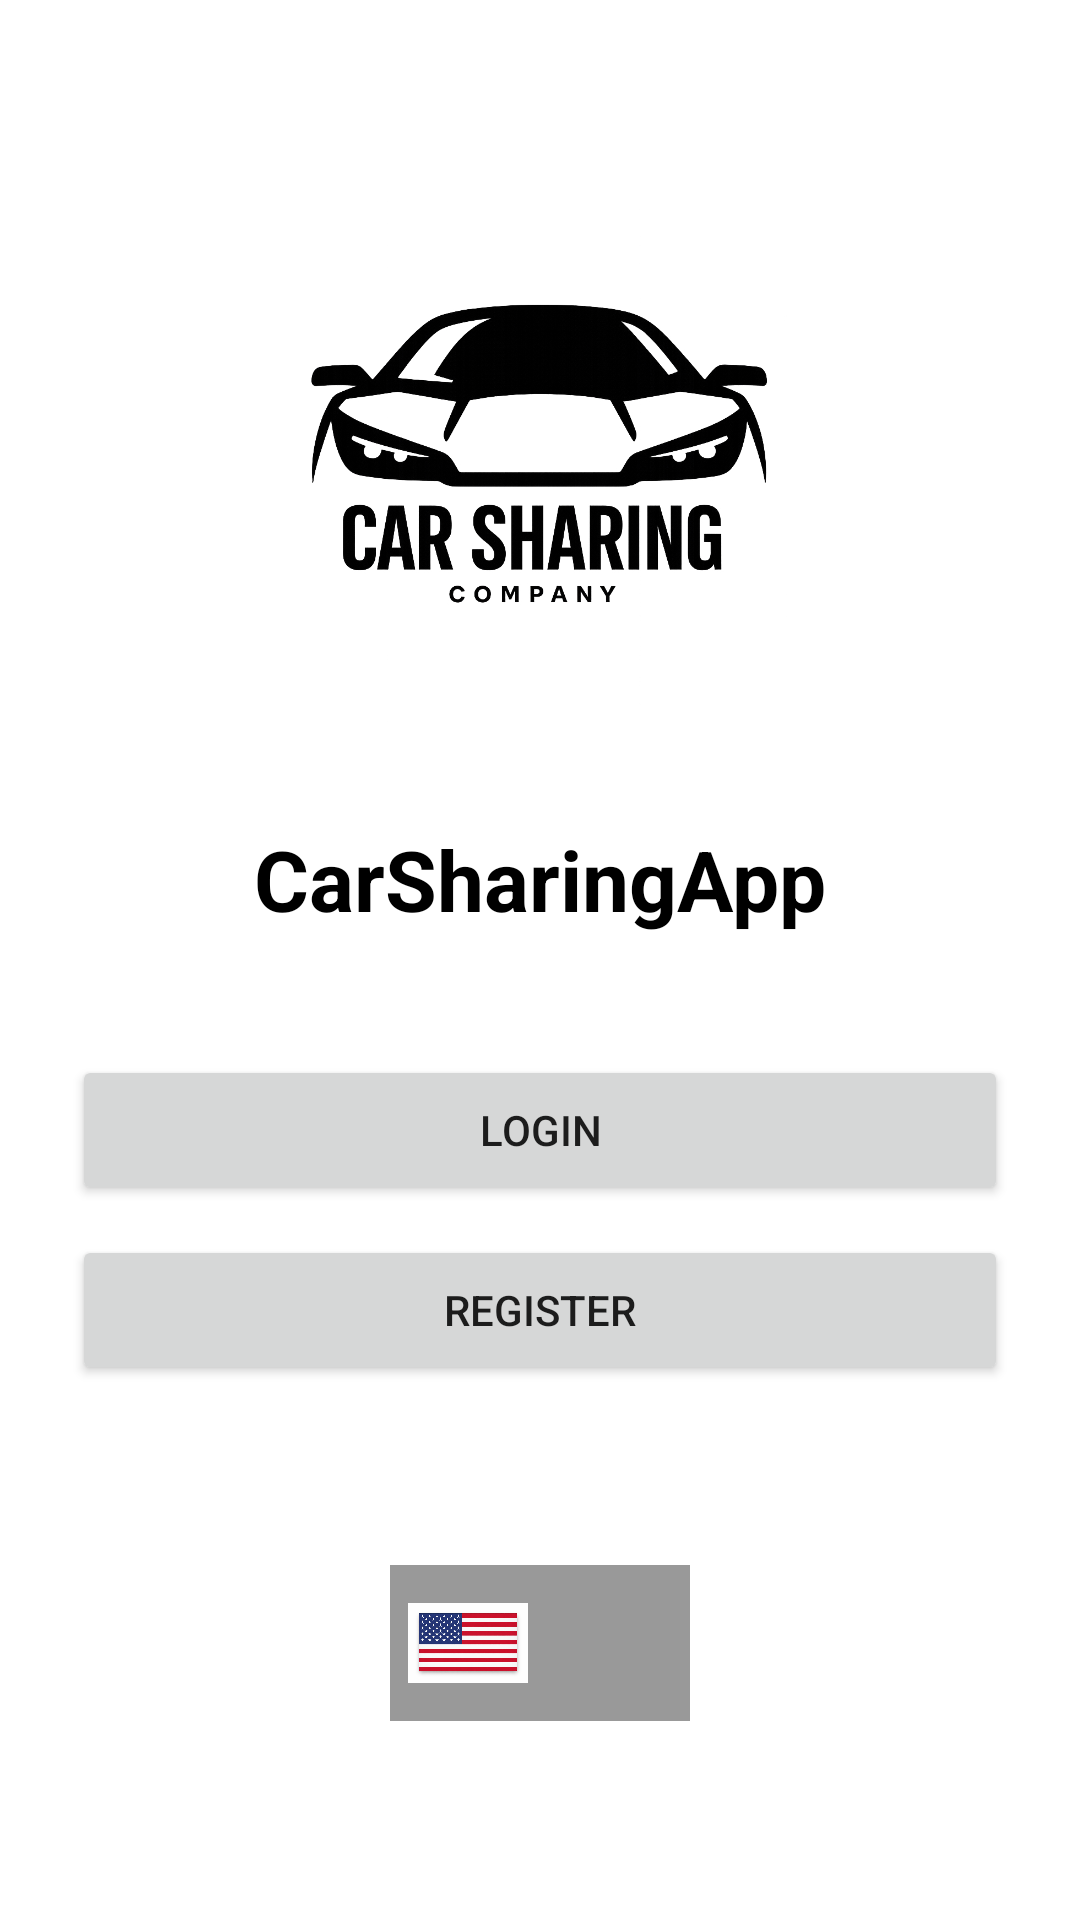

Screen size 1080px×1920px. Icon name, then its box in pixels as (x1, y1, x2, y2):
English: (408, 1603, 528, 1683)
